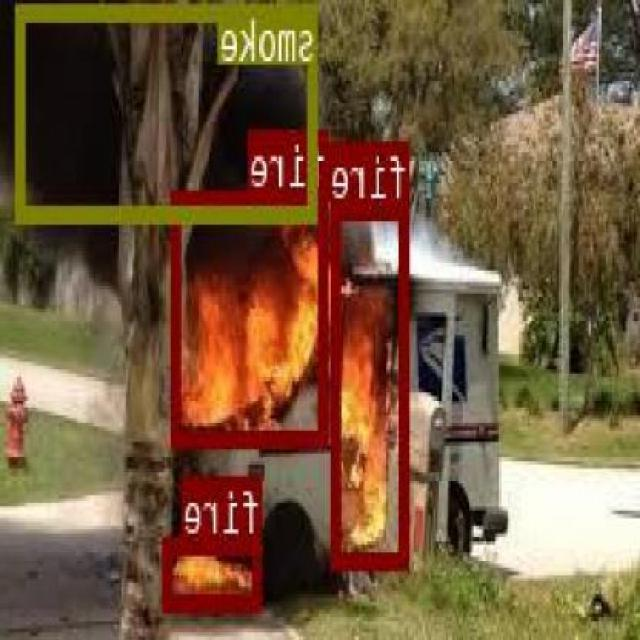Fire: (173, 189, 330, 445), (334, 200, 412, 565), (166, 534, 264, 610)
Smoke: (18, 1, 320, 218)
